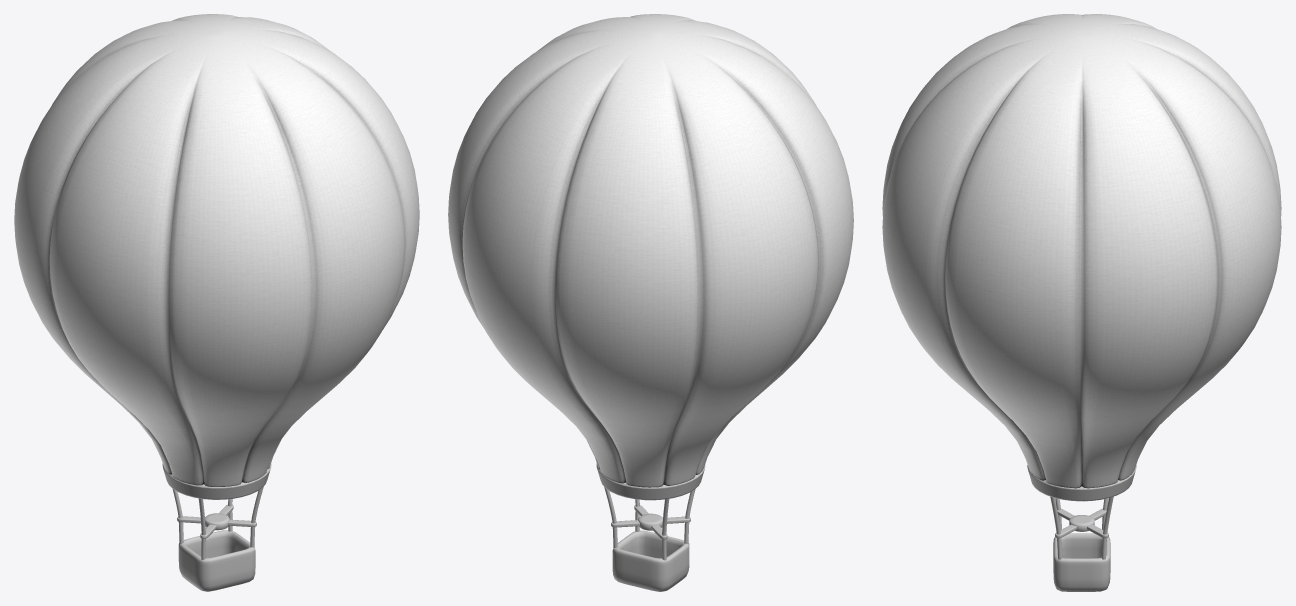
File: Hot Air Balloon.fbx
3 renders of one model, left to right at view 1: azimuth 30°, elevation 25°; view 2: azimuth 150°, elevation 25°; view 3: azimuth 270°, elevation 25°, orthographic.
Parts seen in each view (by area): view 1: Balloon, Frame; view 2: Balloon, Frame; view 3: Balloon, Frame.
Boxes of the visible parts, x1=… form: Balloon: x1=14, y1=14, x2=419, y2=486; Frame: x1=162, y1=463, x2=271, y2=591; Balloon: x1=448, y1=14, x2=853, y2=487; Frame: x1=596, y1=463, x2=705, y2=591; Balloon: x1=882, y1=14, x2=1281, y2=488; Frame: x1=1027, y1=465, x2=1136, y2=591.
Bounding box in the file's own units: 202 × 306 × 202.
